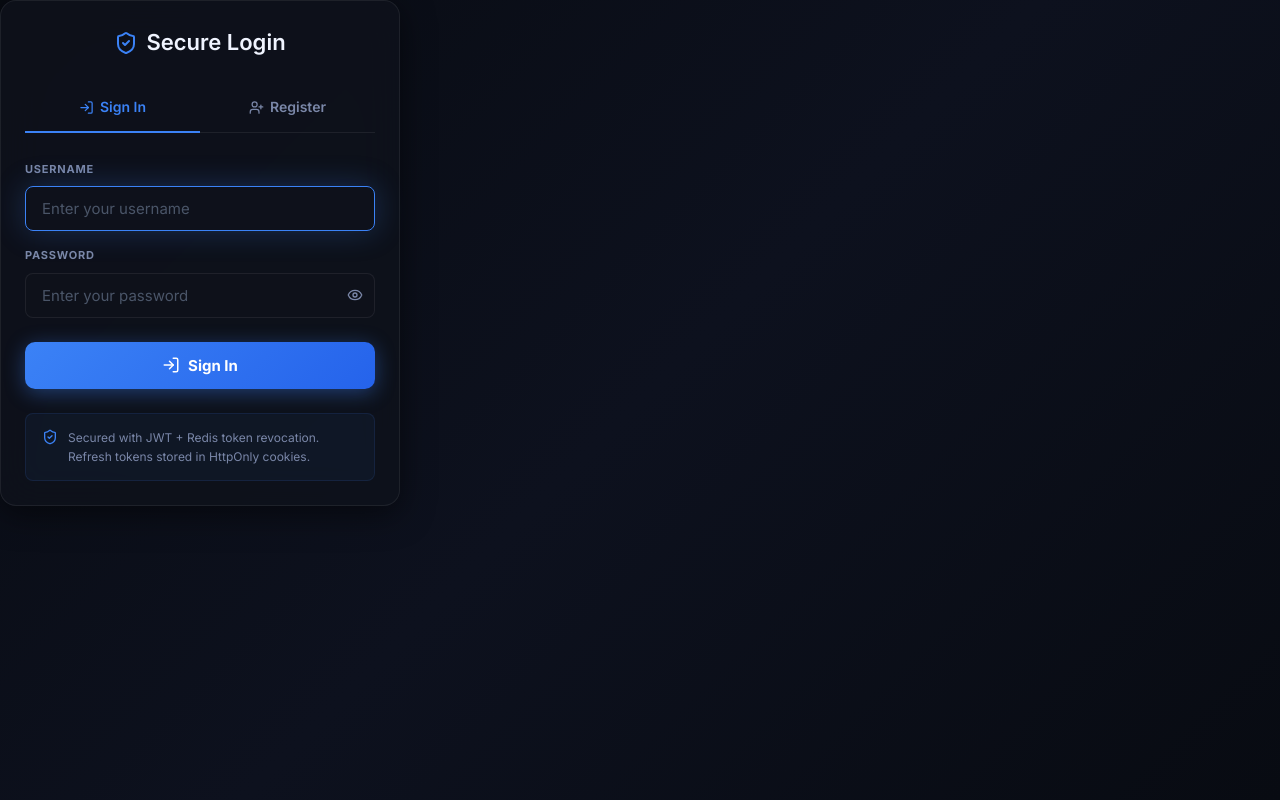
LoginPanel › switches to register form
Click the tab "Register" at (288, 107), box [249, 98, 326, 115]
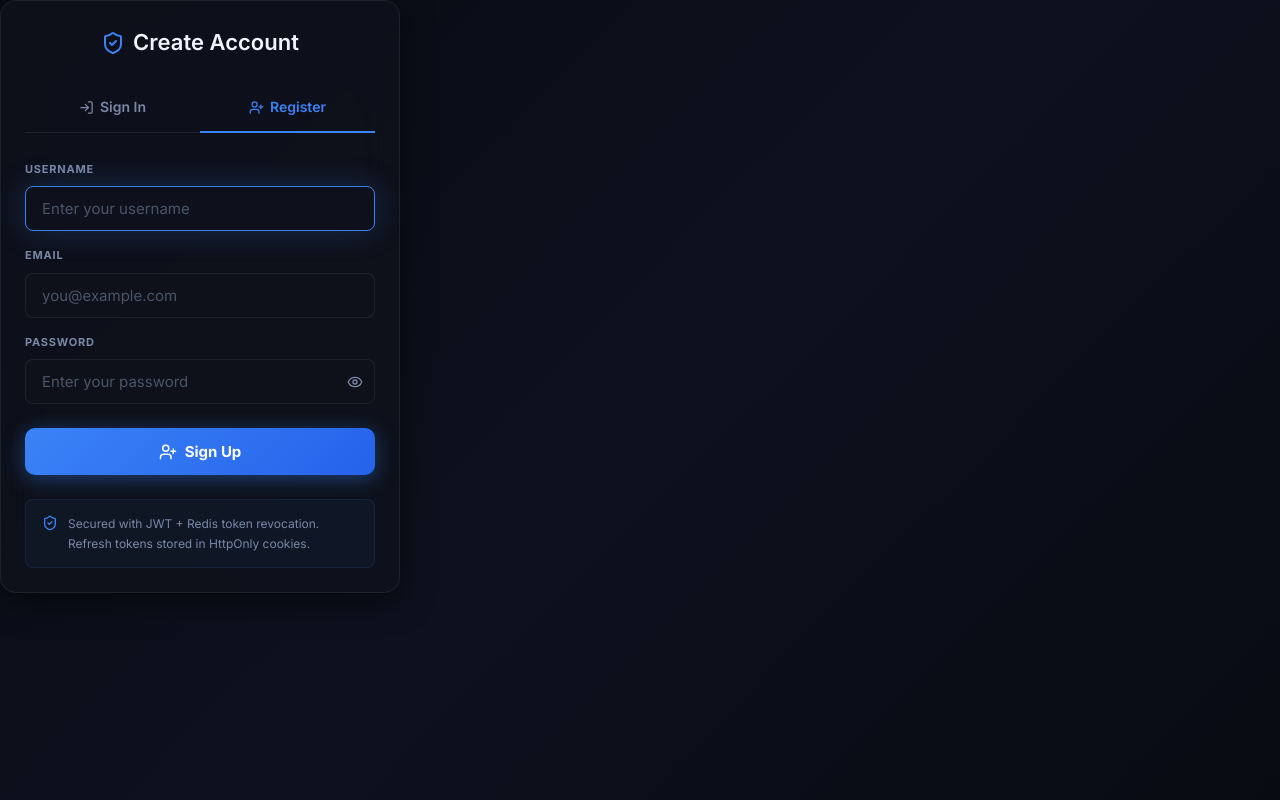
Check: the heading "Create Account" is shown, box [101, 29, 299, 55]
Check: the field labelled "Email" is shown, box [25, 273, 375, 318]
Check: the button "Sign Up" is shown, box [25, 428, 375, 475]
